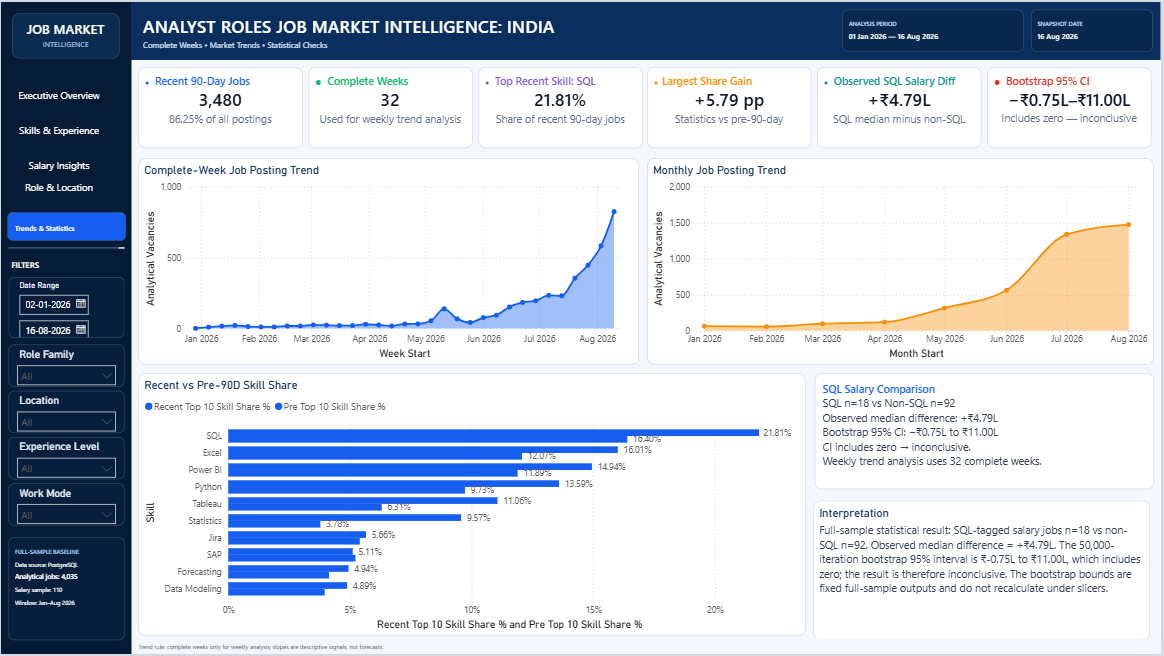

Layout of this report page (visuals, bound fields, positions):
{"tool":"powerbi","page":{"name":"Trends & Statistical","canvas":[1600,900],"ordinal":4},"visuals":[{"type":"textbox","box":[0,0,180,900],"z":0},{"type":"textbox","box":[16,16,148,62],"z":1000},{"type":"textbox","box":[8,289,164,40],"z":2000},{"type":"textbox","box":[10,338,160,2],"z":3000},{"type":"textbox","box":[10,348,160,28],"z":4000},{"type":"slicer","fields":{"Values":["Jobs.Posted Date"]},"box":[10,380,160,84],"z":5000},{"type":"slicer","fields":{"Values":["Jobs.Role Family"]},"box":[10,472,160,58],"z":6000},{"type":"slicer","fields":{"Values":["Jobs.Specific City"]},"box":[10,536,160,58],"z":7000},{"type":"slicer","fields":{"Values":["Jobs.Experience Band"]},"box":[10,600,160,58],"z":8000},{"type":"slicer","fields":{"Values":["Jobs.Work Mode"]},"box":[10,664,160,58],"z":9000},{"type":"textbox","box":[10,738,160,142],"z":10000},{"type":"textbox","box":[180,0,1420,80],"z":11000},{"type":"textbox","box":[1160,10,250,58],"z":12000},{"type":"textbox","box":[1420,10,168,58],"z":13000},{"type":"textbox","box":[190,90,226,112],"z":14000},{"type":"textbox","box":[424,90,226,112],"z":15000},{"type":"textbox","box":[658,90,226,112],"z":16000},{"type":"textbox","box":[892,90,226,112],"z":17000},{"type":"textbox","box":[1126,90,226,112],"z":18000},{"type":"textbox","box":[1360,90,226,112],"z":19000},{"type":"lineChart","title":"Complete-Week Job Posting Trend","fields":{"Category":["Jobs.Week Start"],"Y":["Jobs.Analytical Vacancies"]},"box":[190,215,690,285],"z":20000},{"type":"lineChart","title":"Monthly Job Posting Trend","fields":{"Category":["Jobs.Month Start"],"Y":["Jobs.Analytical Vacancies"]},"box":[892,215,698,285],"z":21000},{"type":"clusteredBarChart","title":"Recent vs Pre-90D Skill Share","fields":{"Category":["Skills.Skill"],"Y":["Skills.Recent Top 10 Skill Share %","Skills.Pre Top 10 Skill Share %"]},"box":[190,512,920,362],"z":22000},{"type":"textbox","box":[1122,512,468,160],"z":23000},{"type":"textbox","title":"Interpretation","box":[1120,688,464,192],"z":24000},{"type":"textbox","box":[190,878,1400,18],"z":25000},{"type":"actionButton","box":[0,112,160,32],"z":26000},{"type":"actionButton","box":[0,160,160,32],"z":27000},{"type":"actionButton","box":[0,208,160,32],"z":29000},{"type":"actionButton","box":[0,240,160,32],"z":30000}]}

Visuals, with their boxes on the page's 1600x900 design canvas (x1, y1, x2, y2). These are canvas units, not pixel positions in the 1164x656 screenshot, which may show the page scaled, cropped or inside an application window:
textbox: left=0, top=0, right=180, bottom=900
textbox: left=16, top=16, right=164, bottom=78
textbox: left=8, top=289, right=172, bottom=329
textbox: left=10, top=338, right=170, bottom=340
textbox: left=10, top=348, right=170, bottom=376
slicer - Jobs.Posted Date: left=10, top=380, right=170, bottom=464
slicer - Jobs.Role Family: left=10, top=472, right=170, bottom=530
slicer - Jobs.Specific City: left=10, top=536, right=170, bottom=594
slicer - Jobs.Experience Band: left=10, top=600, right=170, bottom=658
slicer - Jobs.Work Mode: left=10, top=664, right=170, bottom=722
textbox: left=10, top=738, right=170, bottom=880
textbox: left=180, top=0, right=1600, bottom=80
textbox: left=1160, top=10, right=1410, bottom=68
textbox: left=1420, top=10, right=1588, bottom=68
textbox: left=190, top=90, right=416, bottom=202
textbox: left=424, top=90, right=650, bottom=202
textbox: left=658, top=90, right=884, bottom=202
textbox: left=892, top=90, right=1118, bottom=202
textbox: left=1126, top=90, right=1352, bottom=202
textbox: left=1360, top=90, right=1586, bottom=202
"Complete-Week Job Posting Trend" lineChart: left=190, top=215, right=880, bottom=500
"Monthly Job Posting Trend" lineChart: left=892, top=215, right=1590, bottom=500
"Recent vs Pre-90D Skill Share" clusteredBarChart: left=190, top=512, right=1110, bottom=874
textbox: left=1122, top=512, right=1590, bottom=672
"Interpretation" textbox: left=1120, top=688, right=1584, bottom=880
textbox: left=190, top=878, right=1590, bottom=896
actionButton: left=0, top=112, right=160, bottom=144
actionButton: left=0, top=160, right=160, bottom=192
actionButton: left=0, top=208, right=160, bottom=240
actionButton: left=0, top=240, right=160, bottom=272
